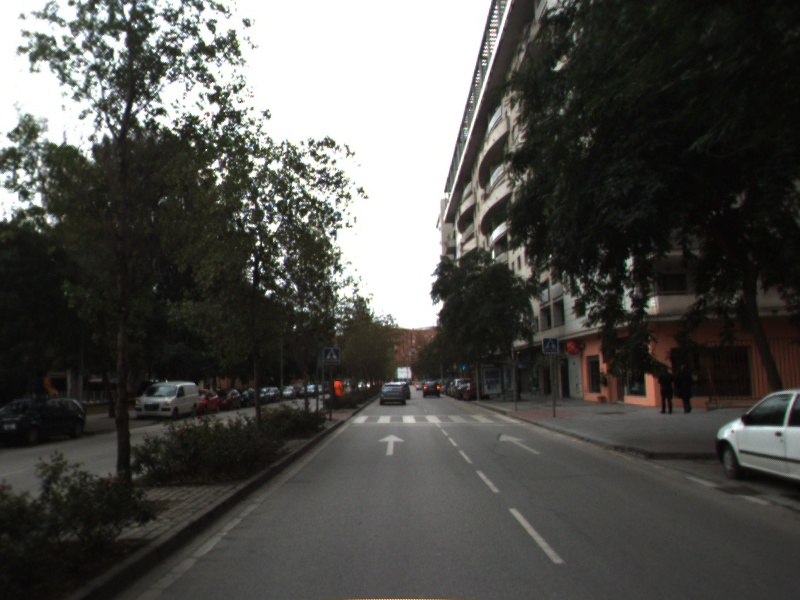STRAIGHT: (497, 432, 544, 456), (376, 433, 407, 457)
